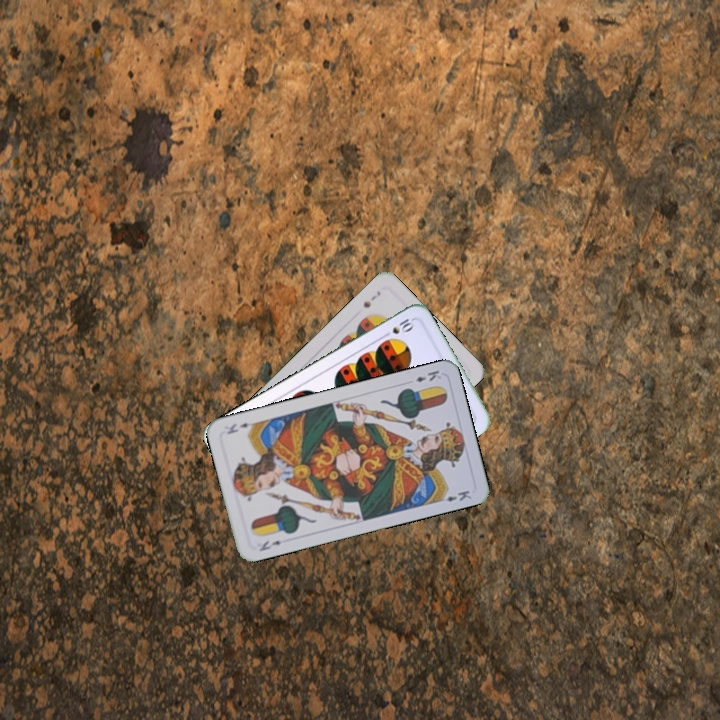EK: (411, 366, 444, 385), (255, 536, 284, 554)
S10: (379, 314, 417, 340)
S7: (359, 286, 383, 310)
